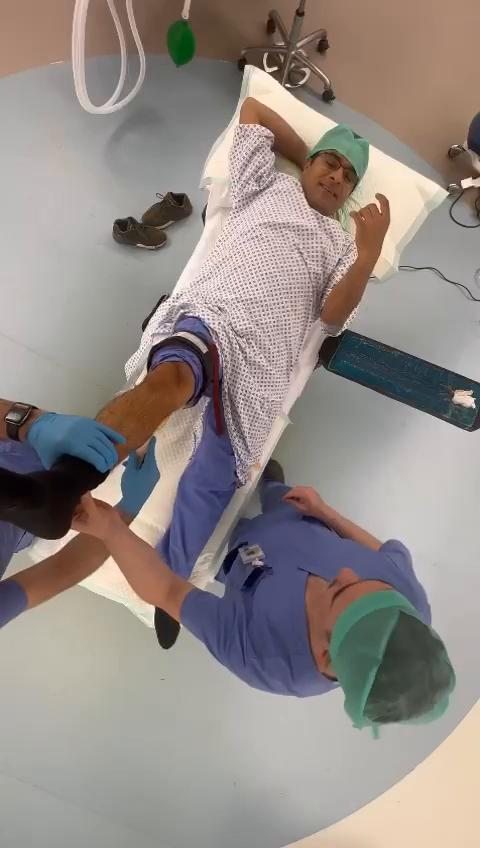patient: (99, 98, 389, 576)
tourniquet: (149, 330, 222, 435)
